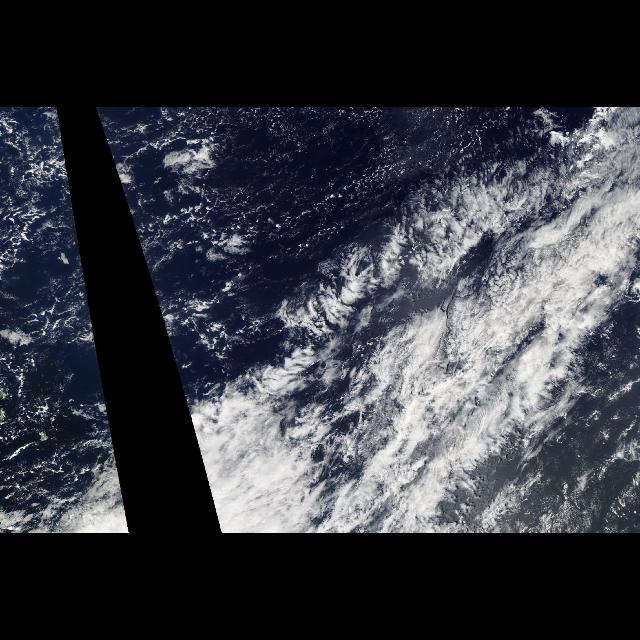Sugar: (148, 108, 480, 274)
